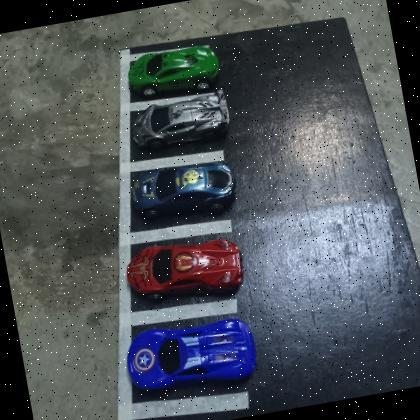Car: (121, 312, 260, 399), (123, 231, 248, 311), (130, 159, 241, 223), (128, 88, 232, 152), (124, 42, 223, 100)
